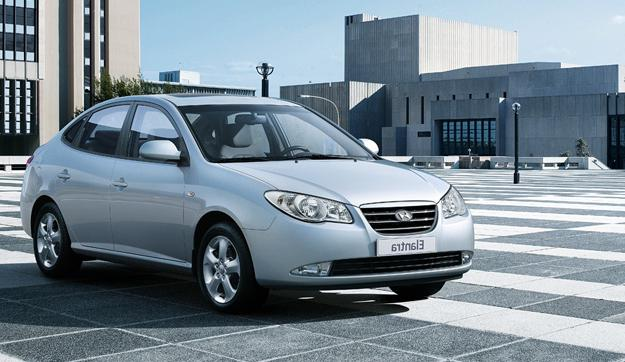Car: (10, 64, 503, 328)
